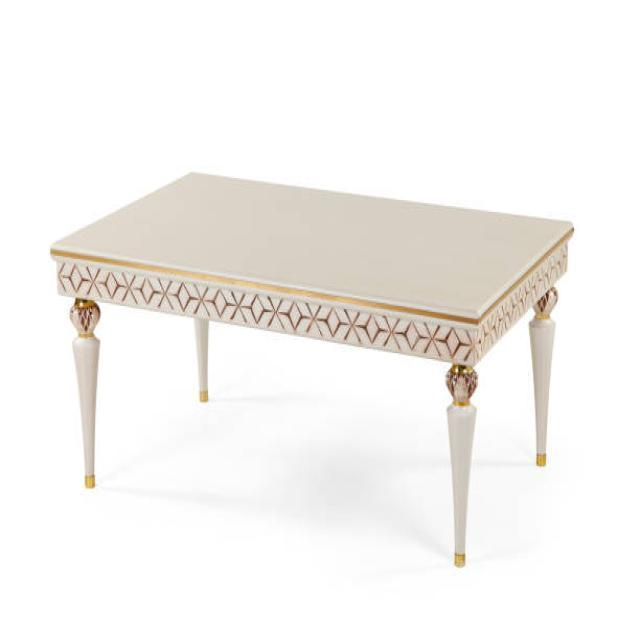table: (49, 168, 574, 568)
